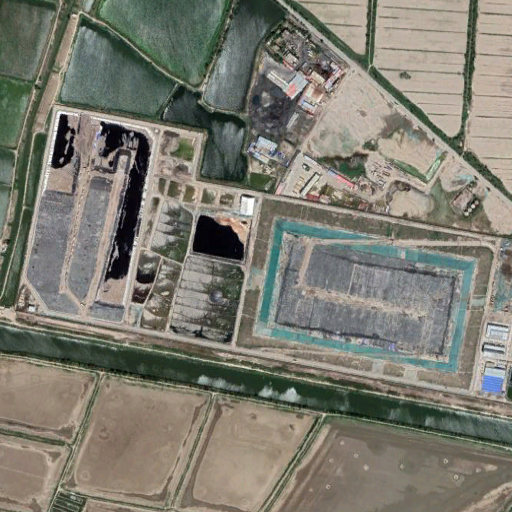lf: (21, 104, 492, 392)
